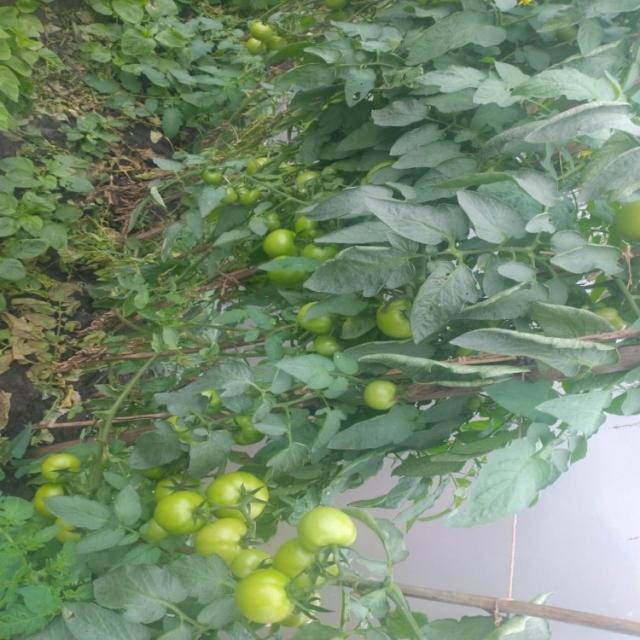tomato: (289, 498, 362, 560), (239, 568, 309, 631), (189, 519, 270, 573), (204, 474, 283, 527), (273, 538, 334, 593), (144, 492, 209, 537), (363, 370, 410, 423), (39, 449, 91, 490), (377, 297, 416, 350), (262, 217, 299, 263), (146, 475, 191, 511), (608, 189, 640, 239), (308, 326, 347, 362), (237, 176, 268, 211), (250, 17, 283, 45), (296, 242, 327, 264), (199, 155, 223, 176), (245, 34, 271, 53)
